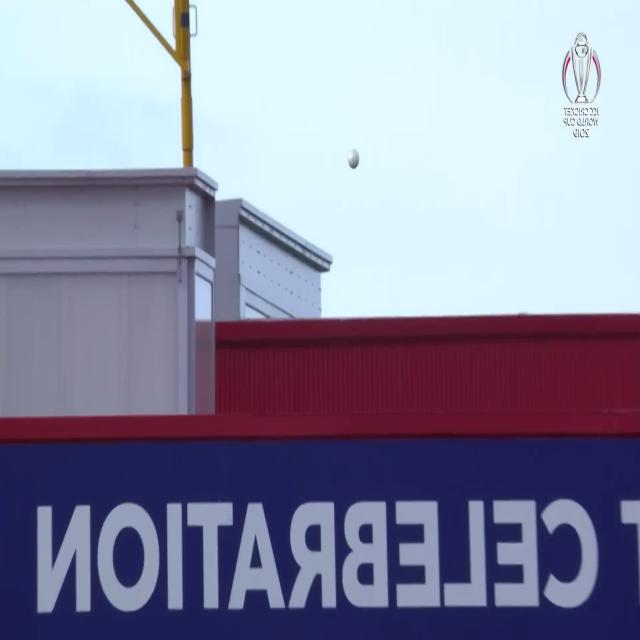ball: (344, 144, 362, 174)
